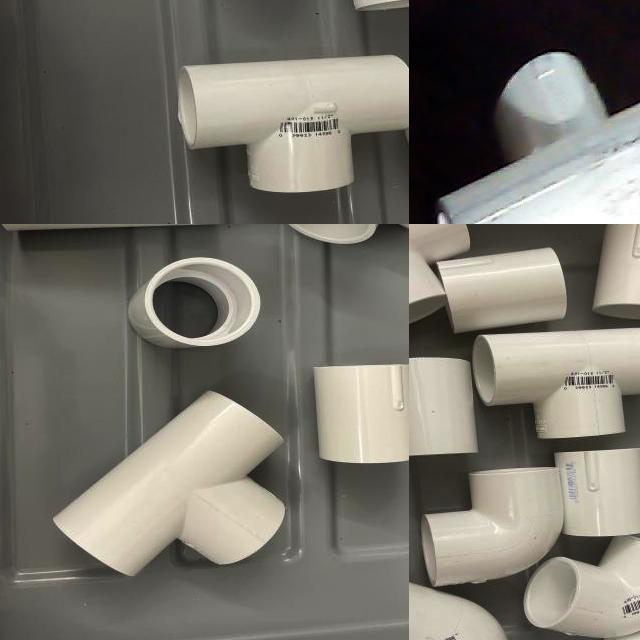L Joint: (423, 468, 564, 589), (524, 536, 640, 638), (409, 224, 471, 326), (409, 583, 506, 640)
T Joint: (51, 392, 287, 580), (435, 52, 640, 224), (180, 55, 409, 197), (471, 327, 640, 446)
